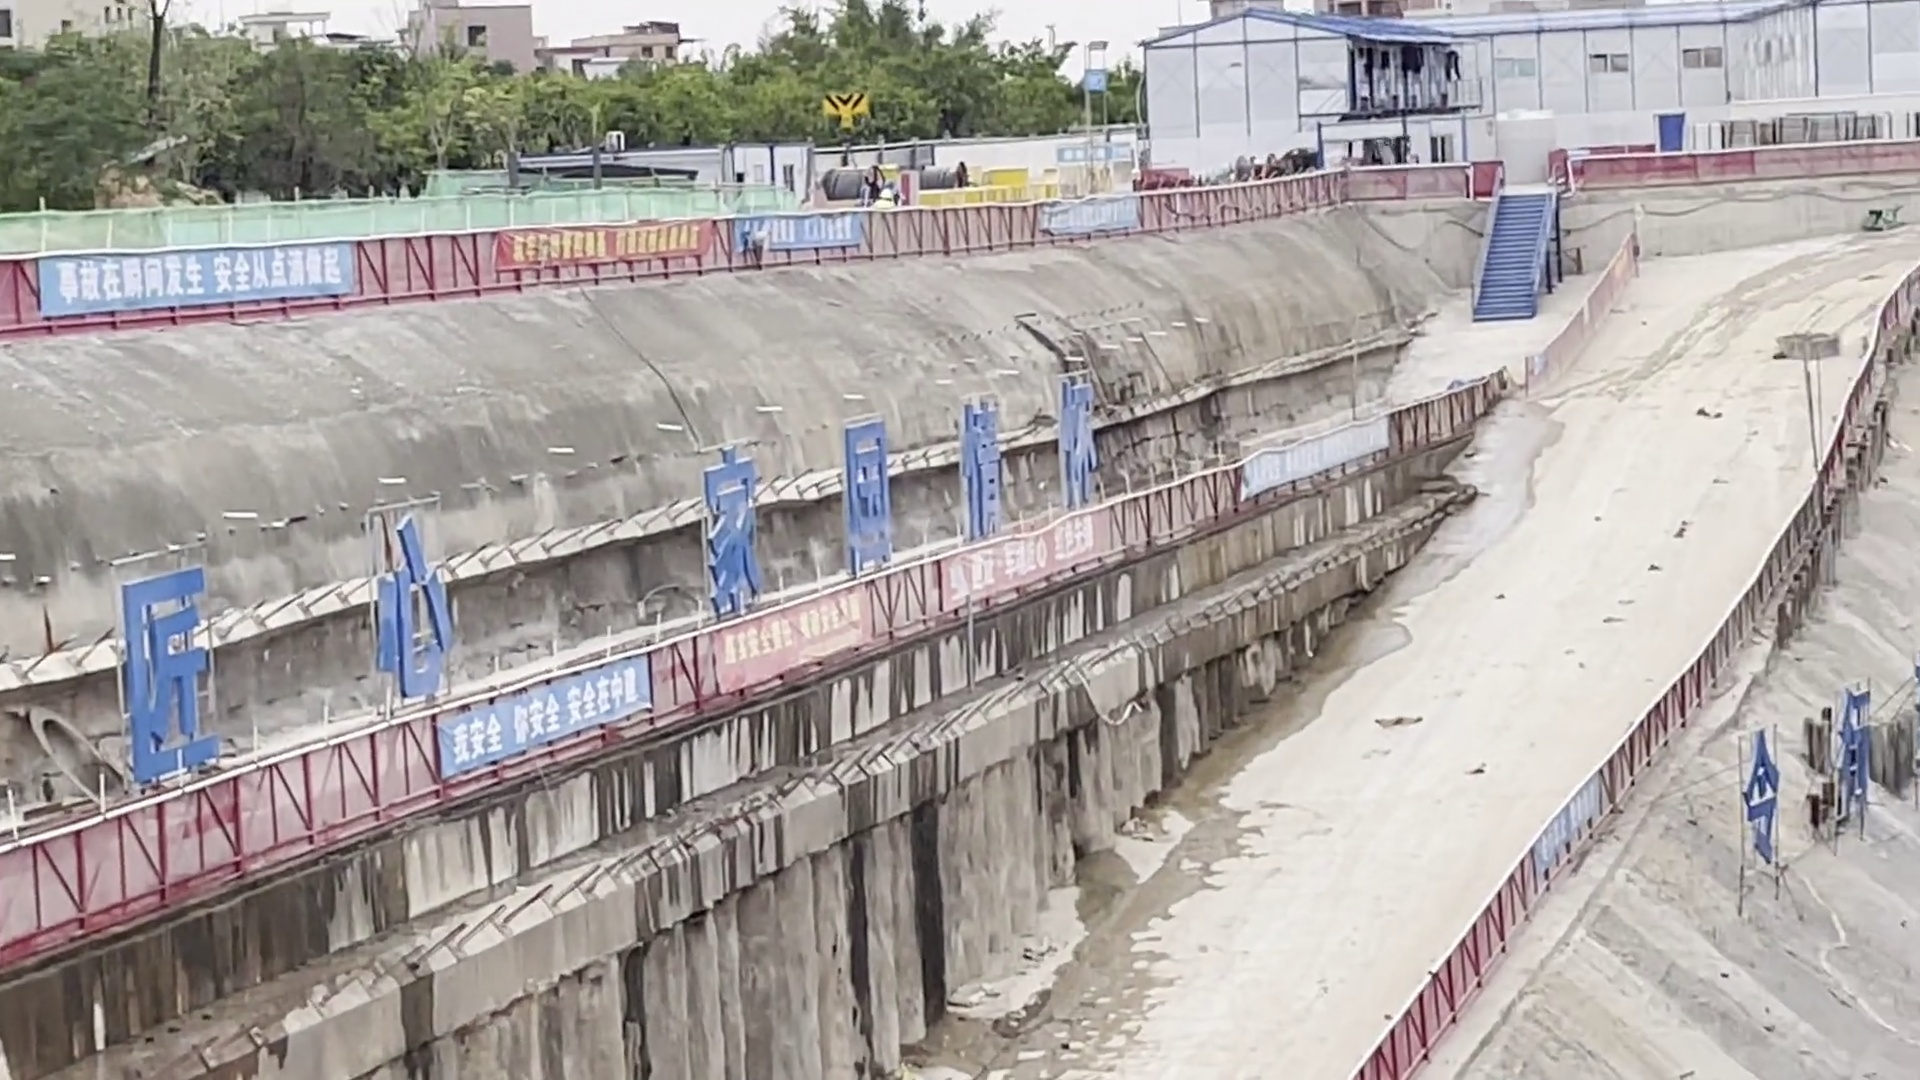fence: (1, 305, 1524, 978), (21, 161, 1505, 291), (1346, 608, 1705, 1080), (1685, 228, 1920, 646), (1553, 105, 1920, 207)
hook: (816, 88, 882, 132)
slogan: (38, 222, 360, 331), (418, 655, 680, 761), (708, 592, 895, 680), (928, 524, 1124, 603), (1230, 401, 1396, 492), (506, 218, 721, 272), (1523, 775, 1633, 876), (731, 206, 872, 266), (1042, 185, 1151, 243)
